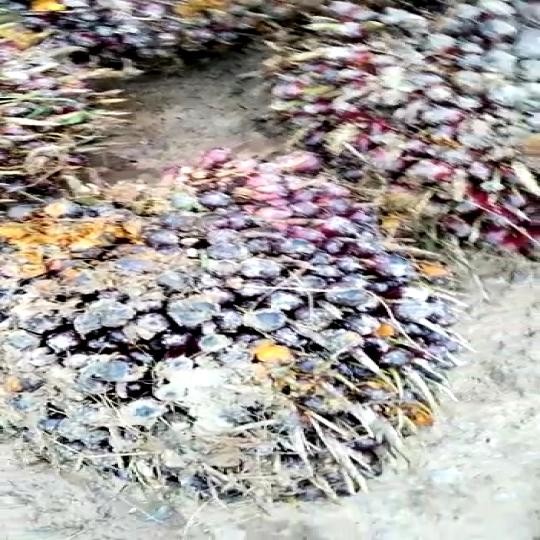kurang masak: (0, 171, 493, 527), (259, 0, 540, 211)
